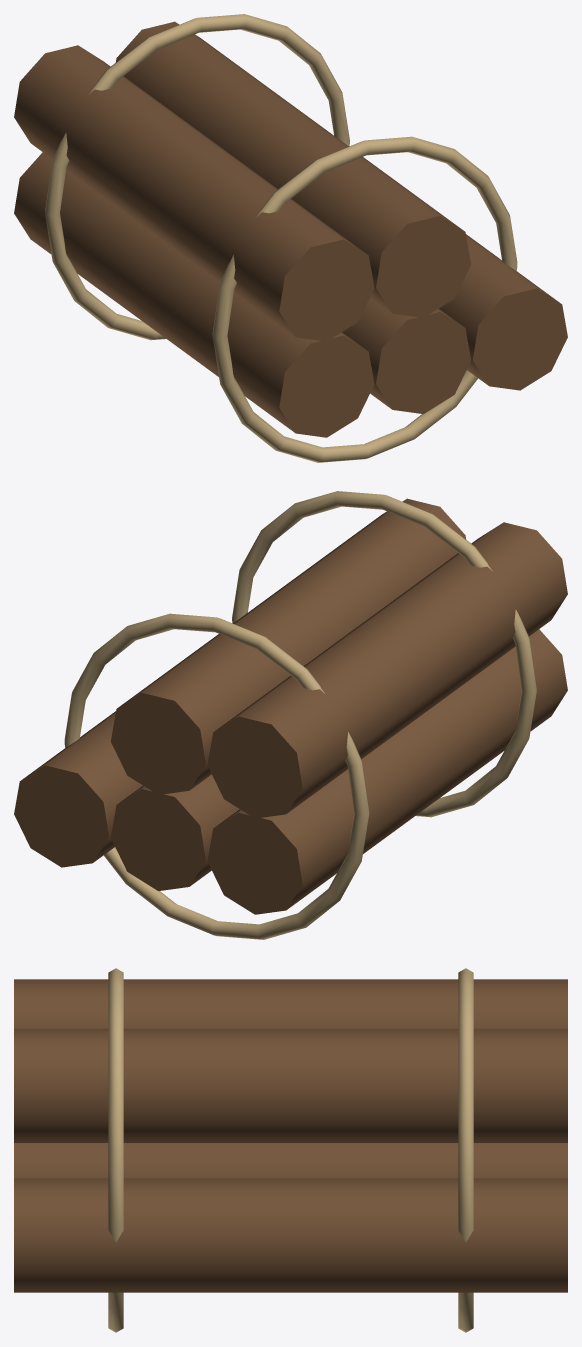
File: wood_bundle.glb
3 views of the same model, one above another, from view 1: azimuth 30°, elevation 25°; view 2: azimuth 150°, elevation 25°; view 3: azimuth 270°, elevation 25° (orthographic). The views are drawn at different scales.
Parts seen in each view (by area): view 1: batch_wood_bundle_0, batch_wood_bundle_1; view 2: batch_wood_bundle_0, batch_wood_bundle_1; view 3: batch_wood_bundle_0, batch_wood_bundle_1.
Part boxes in pixels (x1,y1,x2,y2): batch_wood_bundle_0: [14, 21, 567, 437]; batch_wood_bundle_1: [45, 14, 517, 462]; batch_wood_bundle_0: [14, 498, 567, 914]; batch_wood_bundle_1: [64, 491, 536, 939]; batch_wood_bundle_0: [14, 979, 567, 1292]; batch_wood_bundle_1: [108, 968, 473, 1332].
Bounding box in the file's own units: 0.6335 × 0.63 × 0.95.
